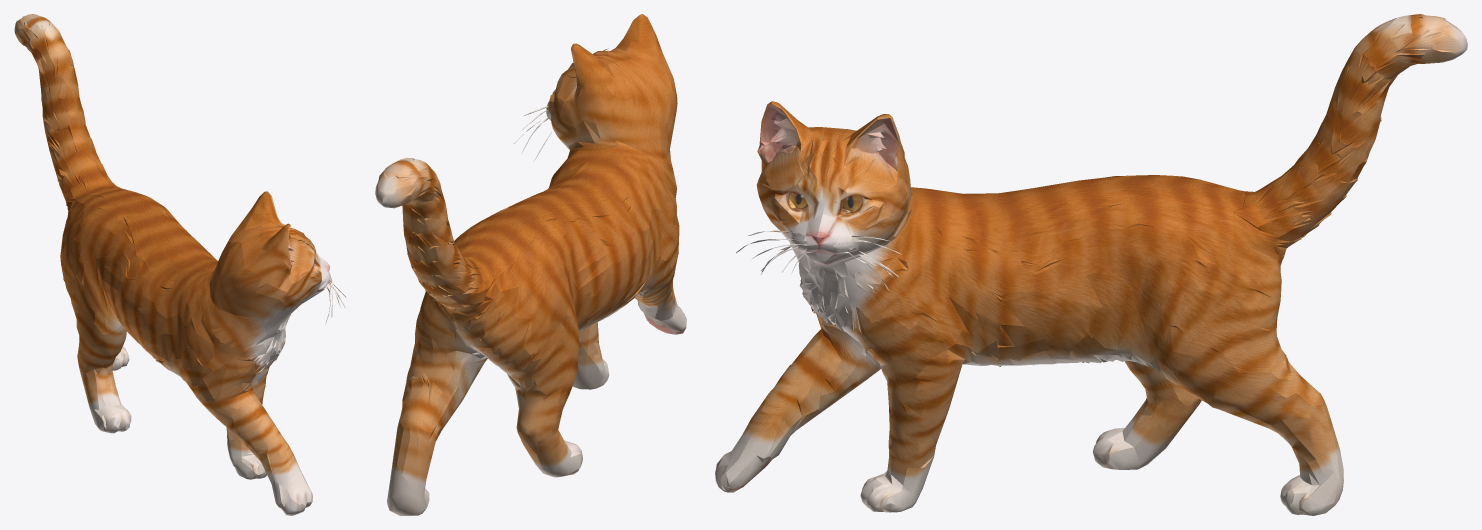
The model's file is hf_20261122_074930_5a86e48f-db88-4bf3-aa41-dc94edc9ce3b.glb.
3 renders of one model, left to right at view 1: azimuth 30°, elevation 25°; view 2: azimuth 150°, elevation 25°; view 3: azimuth 270°, elevation 25°, orthographic. The views are drawn at different scales.
Bounding box in the file's own units: 0.5767 × 1.3 × 1.9.
1 material, 1 textured.
